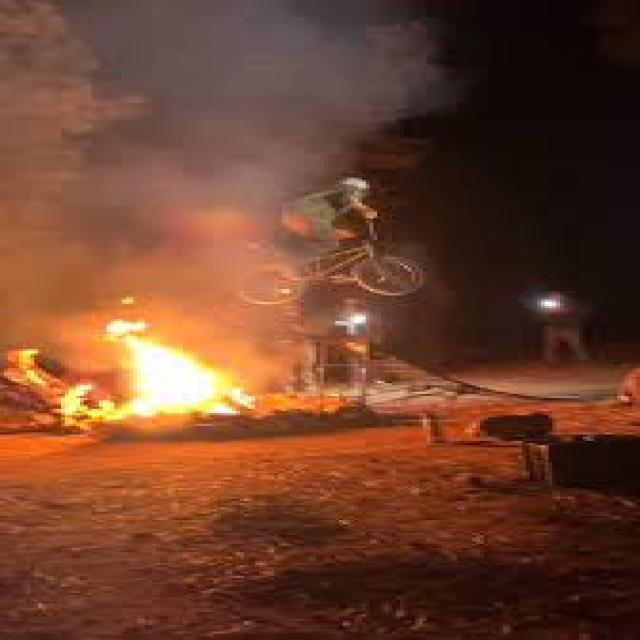fire: (121, 338, 256, 413), (60, 385, 123, 420)
